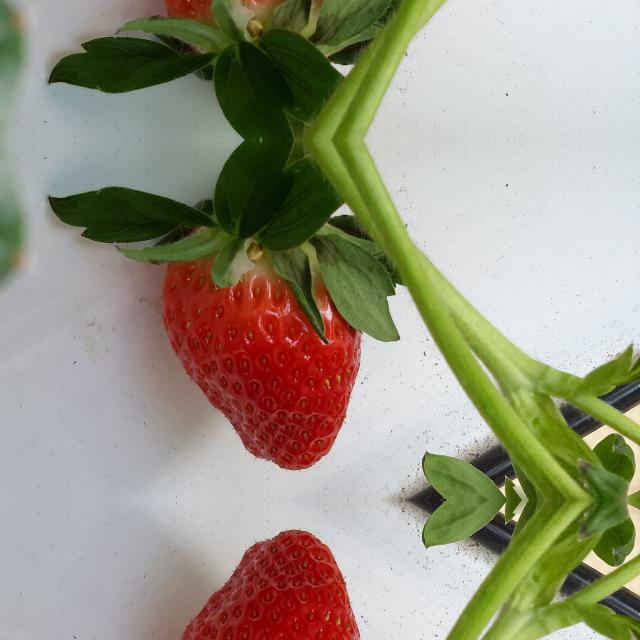Health_100: (160, 250, 362, 468), (160, 531, 362, 640)
